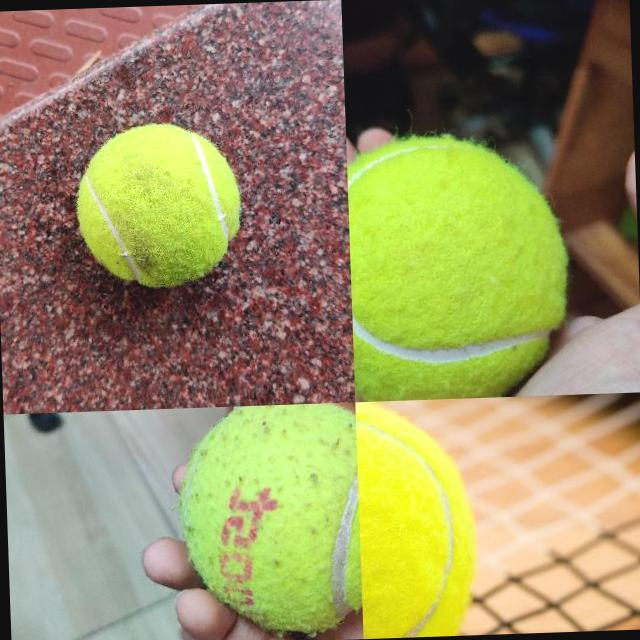Tennis Ball: (346, 132, 572, 400), (173, 402, 363, 638), (356, 398, 482, 638), (75, 120, 243, 290)
